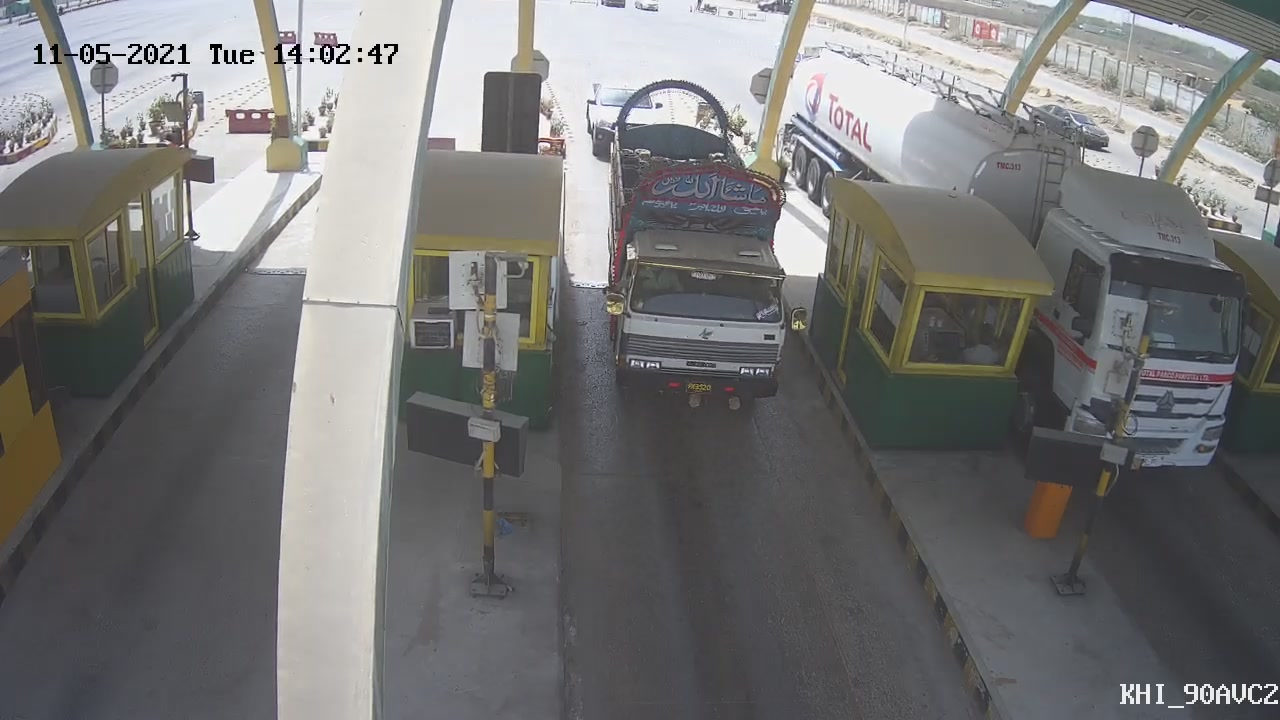F5: (589, 79, 787, 405)
